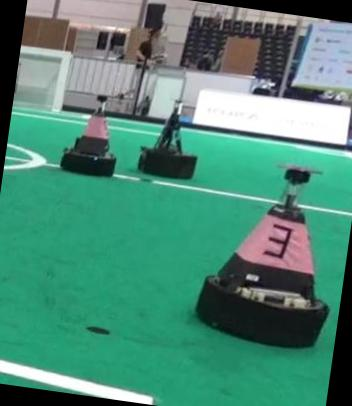goal: (51, 52, 70, 110)
robot: (196, 166, 329, 346), (60, 95, 115, 175), (138, 106, 196, 177)
